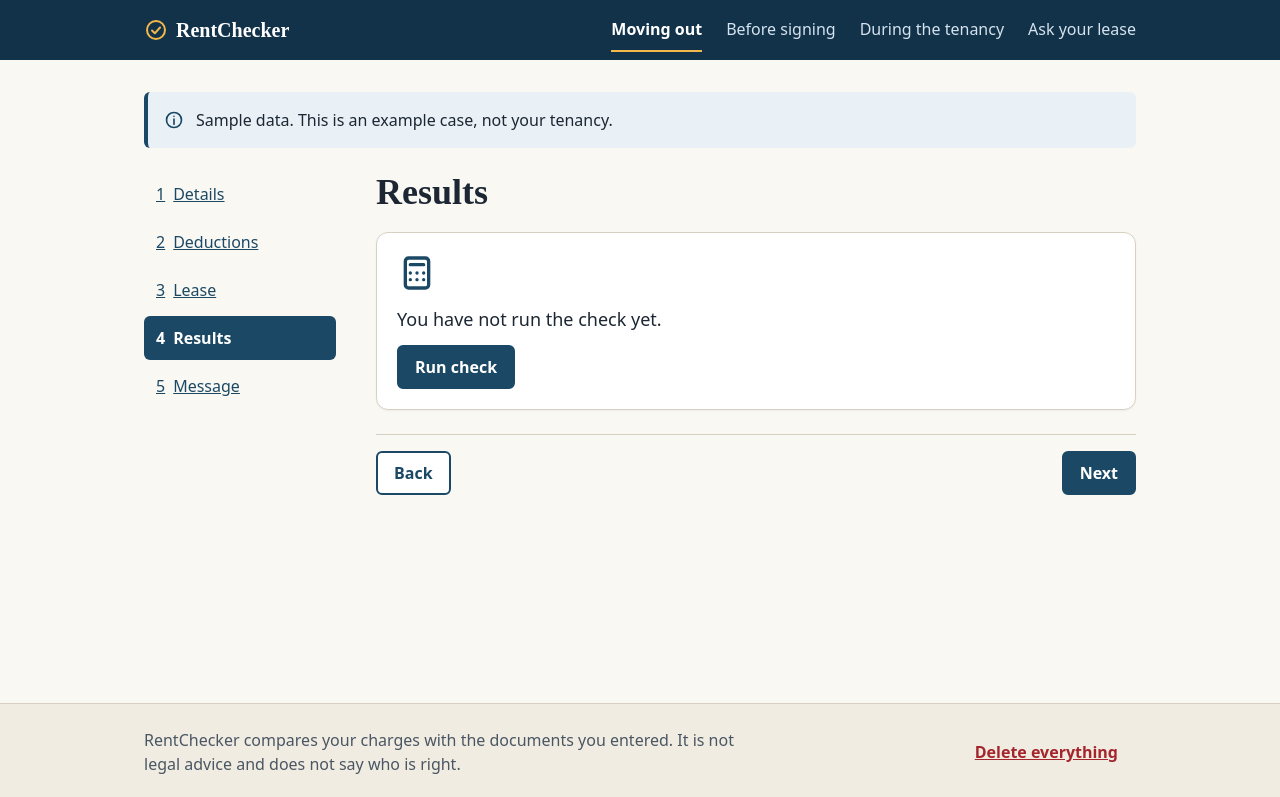
sample case results › F1-AC1 Repainting needs proof, June rent is recalculated at 7,500, Service fee is not found (T-155)
The image size is (1280, 797).
Click the button "Run check" at [456, 367], box [397,345,515,389]
(page scrolled)
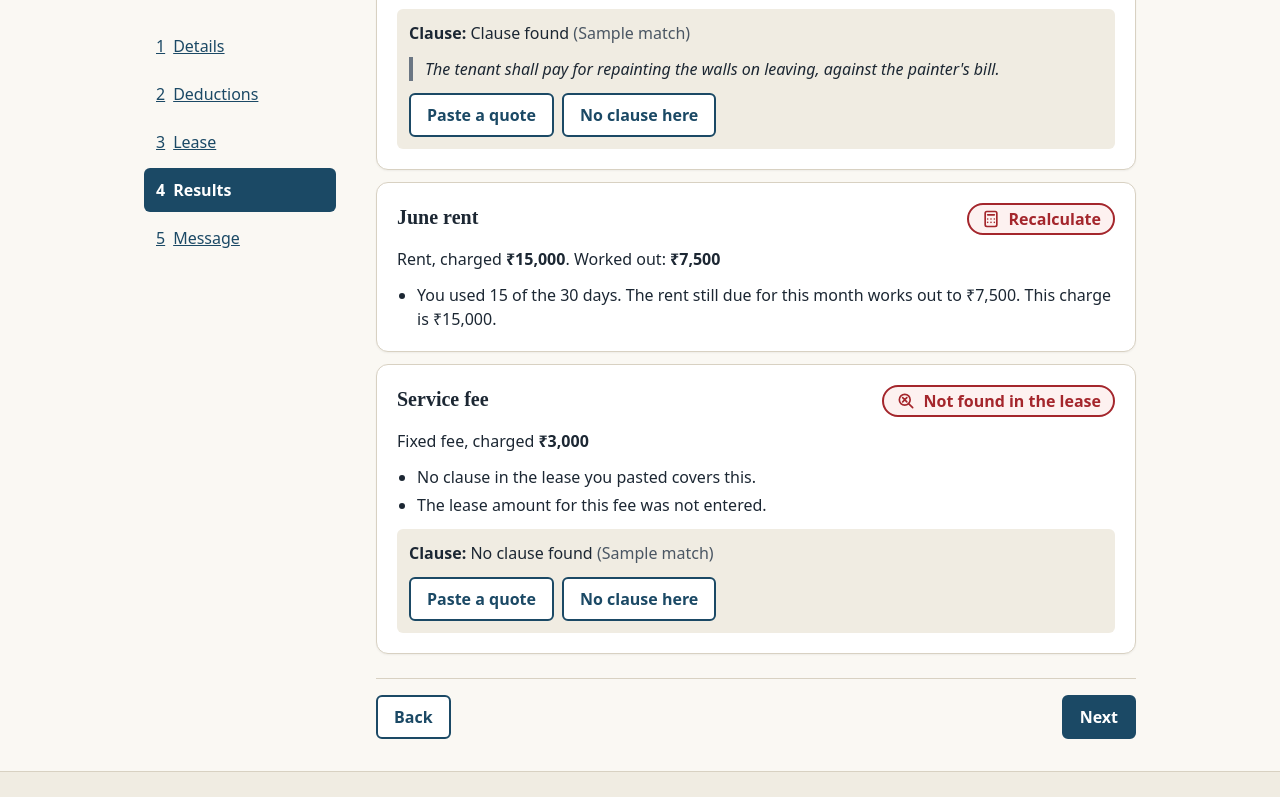
Now the text "Recalculate" is shown, box [1008,206,1101,230]
Now the text "₹7,500" is shown, box [670,248,720,270]
Now the text "Not found in the lease" is shown, box [924,388,1101,412]
